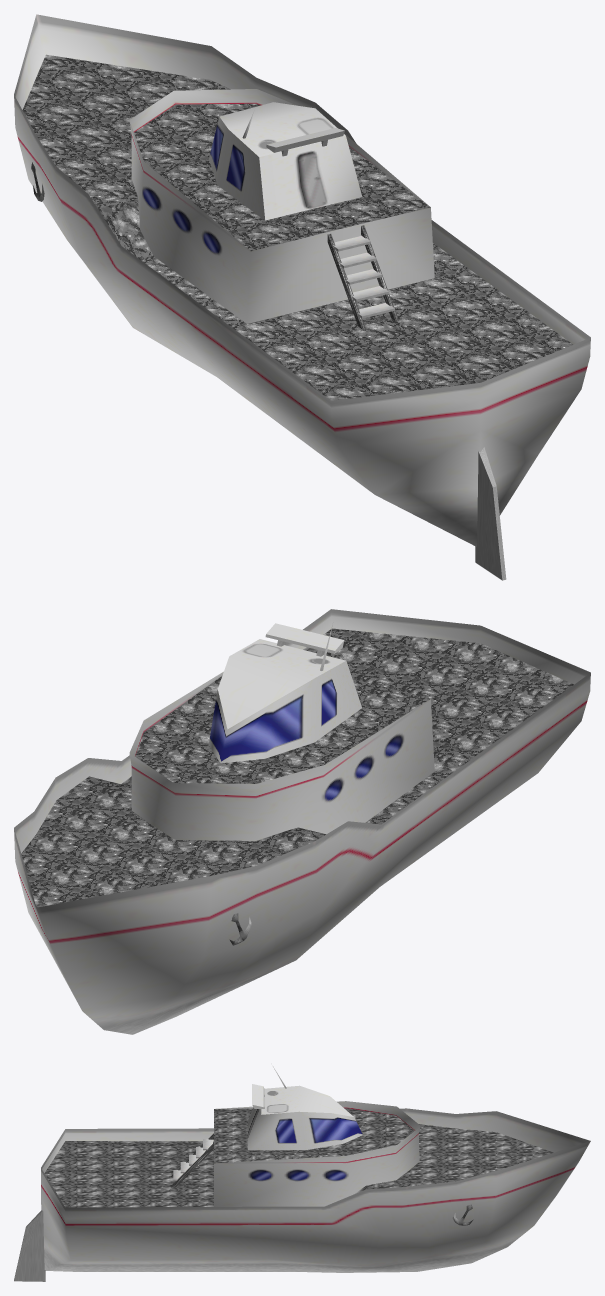
Rendered from yacht.obj.
3 renders of one model, top to bottom at view 1: azimuth 30°, elevation 25°; view 2: azimuth 150°, elevation 25°; view 3: azimuth 270°, elevation 25°, orthographic. The views are drawn at different scales.
Parts seen in each view (by area): view 1: hull, hullfloor, deck1, deck1floor, deck2, Box07, Box05; view 2: hull, hullfloor, deck1, deck2, deck1floor, Box05; view 3: hull, hullfloor, deck1, deck2, deck1floor, Box07, Box05.
Boxes of the visible parts, left/top/right/bottom form: hull: left=14, top=14, right=590, bottom=546; hullfloor: left=22, top=54, right=572, bottom=400; deck1: left=129, top=89, right=434, bottom=323; deck1floor: left=134, top=103, right=430, bottom=251; deck2: left=209, top=102, right=362, bottom=220; Box07: left=475, top=447, right=506, bottom=580; Box05: left=266, top=128, right=344, bottom=152; hull: left=14, top=609, right=590, bottom=1034; hullfloor: left=21, top=628, right=573, bottom=907; deck1: left=129, top=671, right=434, bottom=840; deck2: left=208, top=639, right=361, bottom=763; deck1floor: left=135, top=675, right=430, bottom=783; Box05: left=265, top=623, right=344, bottom=653; hull: left=41, top=1108, right=590, bottom=1272; hullfloor: left=44, top=1124, right=553, bottom=1207; deck1: left=214, top=1101, right=420, bottom=1206; deck2: left=247, top=1085, right=362, bottom=1150; deck1floor: left=214, top=1108, right=414, bottom=1163; Box07: left=14, top=1210, right=45, bottom=1281; Box05: left=252, top=1084, right=264, bottom=1108.
Bounding box in the file's own units: 50.51 × 61.65 × 157.
